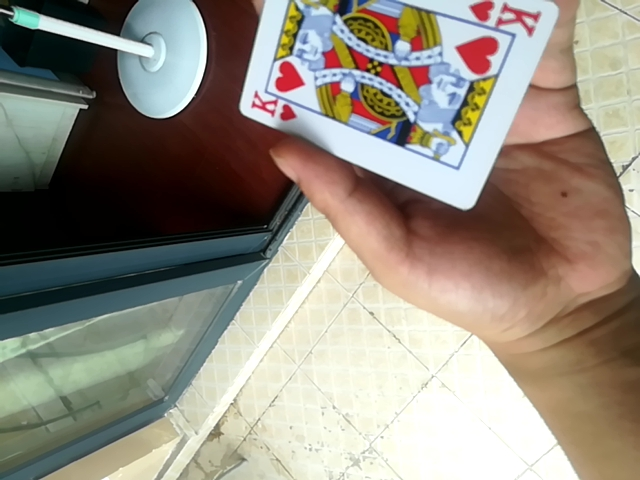hx k: (237, 0, 561, 215)
